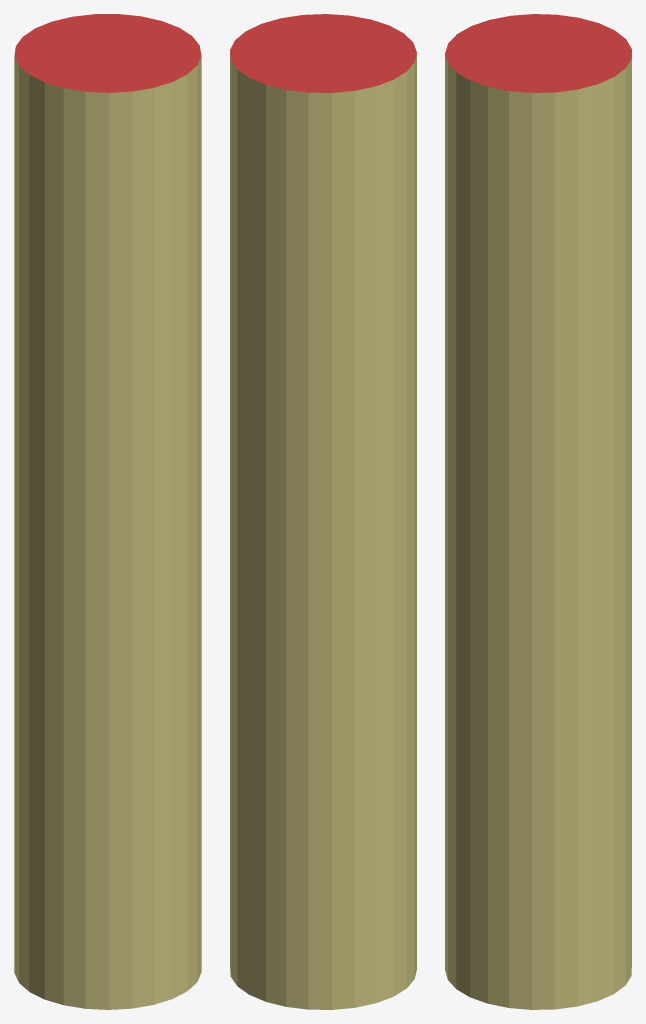
3 renders of one model, left to right at view 1: azimuth 30°, elevation 25°; view 2: azimuth 150°, elevation 25°; view 3: azimuth 270°, elevation 25°, orthographic.
Size of the model in its own units: 3.89 by 3.89 by 21.05.
